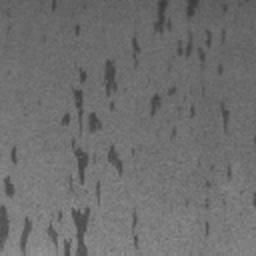Red iron sheet: (0, 0, 230, 256), (204, 165, 232, 236), (74, 24, 79, 36), (51, 0, 56, 9)
